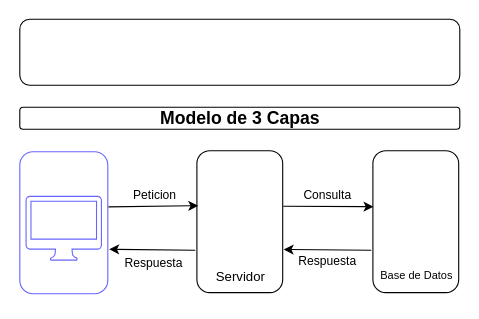
Image size: 479x319. Some labels were removed from this diagram. Each missing label, with the centre of its shape:
"Cliente" belongs at [63,227].
"Diseño de la Arquitectura del Proyecto" belongs at [239,51].
